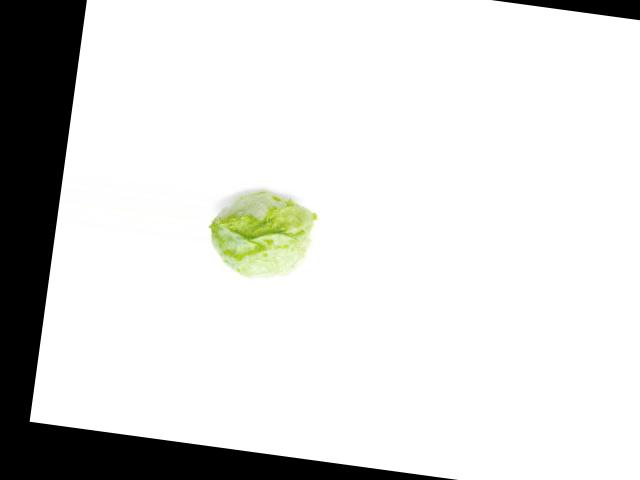lettuce: (203, 179, 319, 291)
